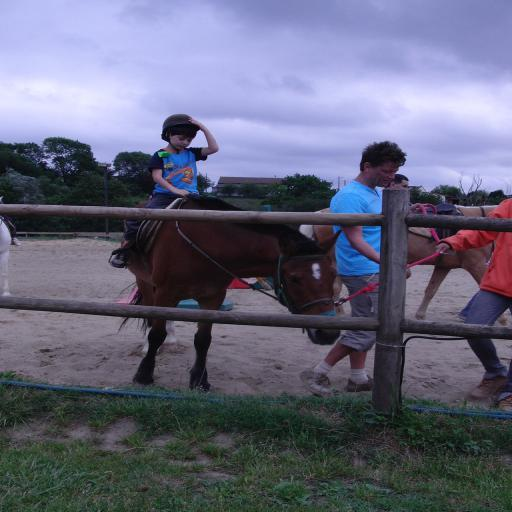Horse: (119, 193, 342, 392), (296, 202, 512, 325)
